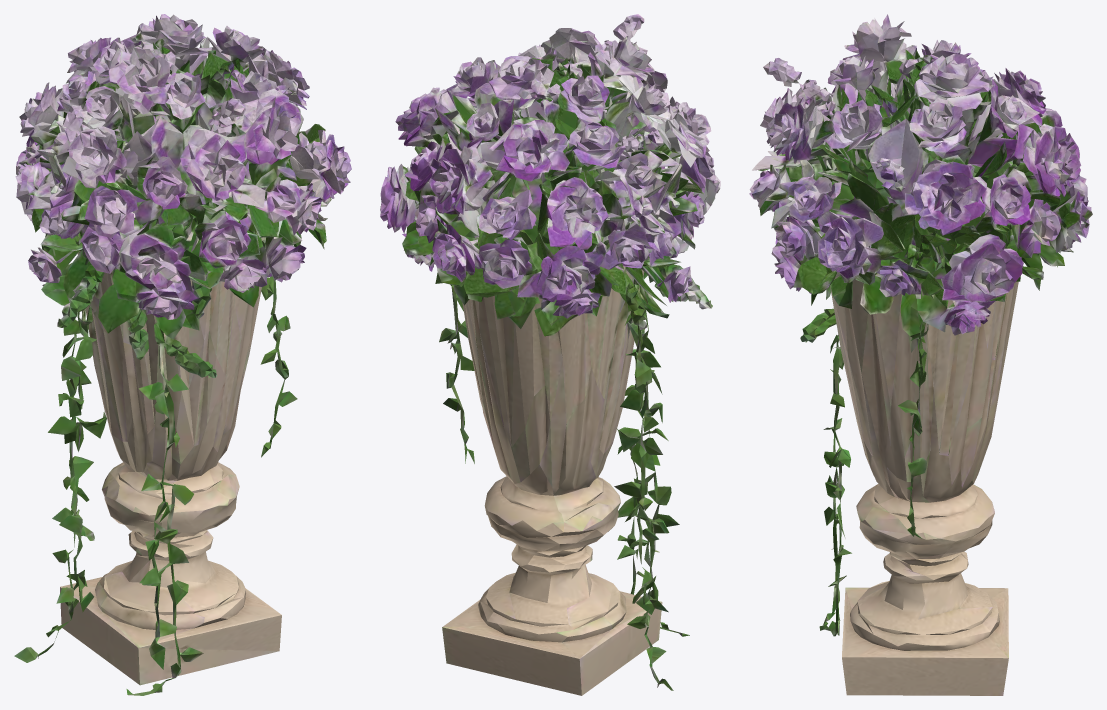
Rendered from terracoUrn.glb.
3 views of the same model, side by side, from view 1: azimuth 30°, elevation 25°; view 2: azimuth 150°, elevation 25°; view 3: azimuth 270°, elevation 25° (orthographic).
Size of the model in its own units: 0.8618 by 1.79 by 0.8997.
1 material, 1 textured.
